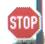Stop sign: (0, 1, 44, 43)
